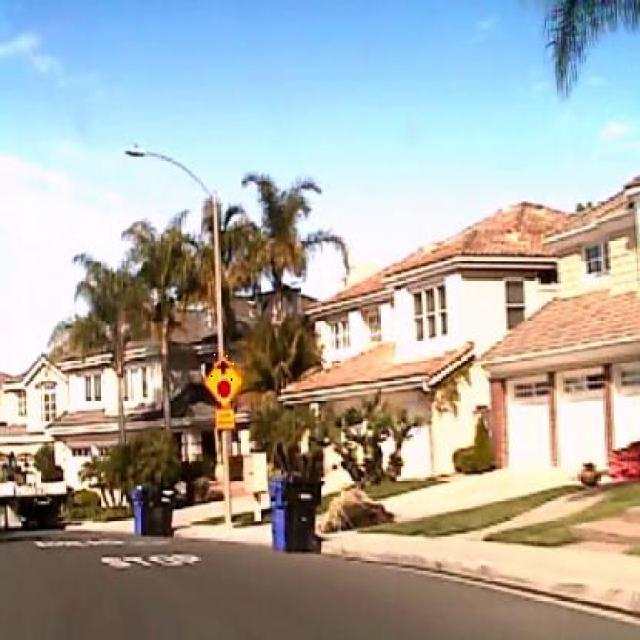stopAhead: (203, 354, 243, 408)
